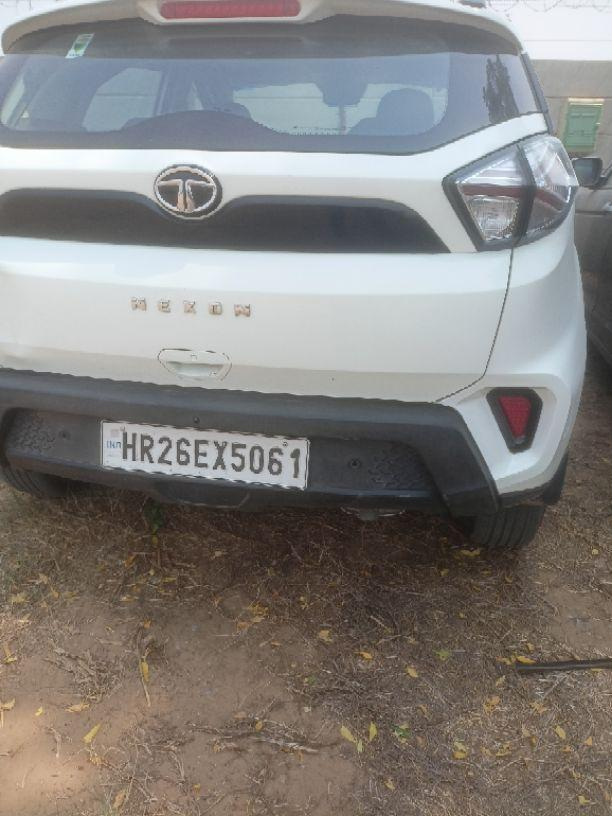license_plate: (98, 418, 310, 491)
